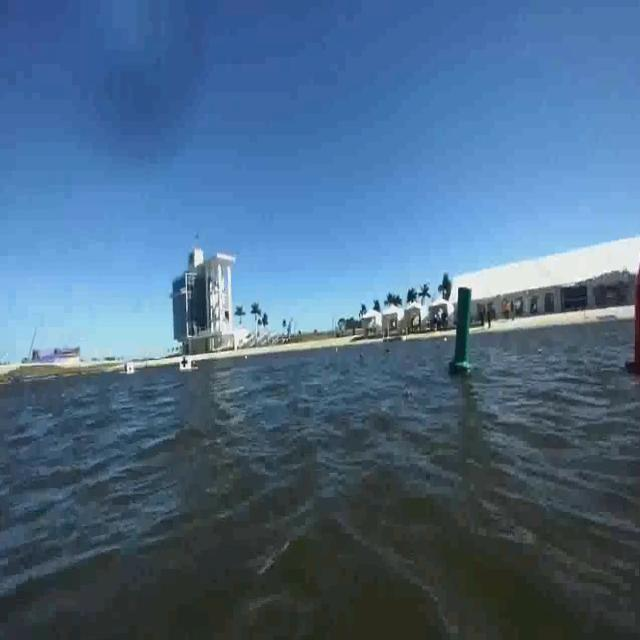green-column-buoy: (450, 285, 475, 377)
